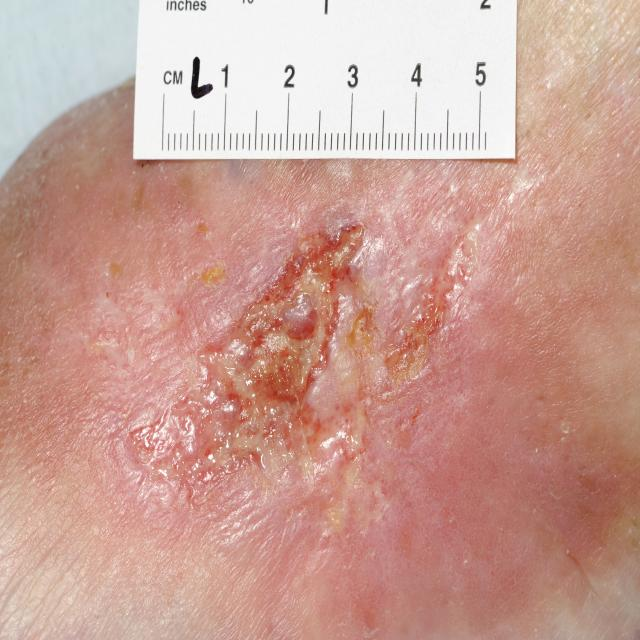wound: (129, 218, 380, 513)
